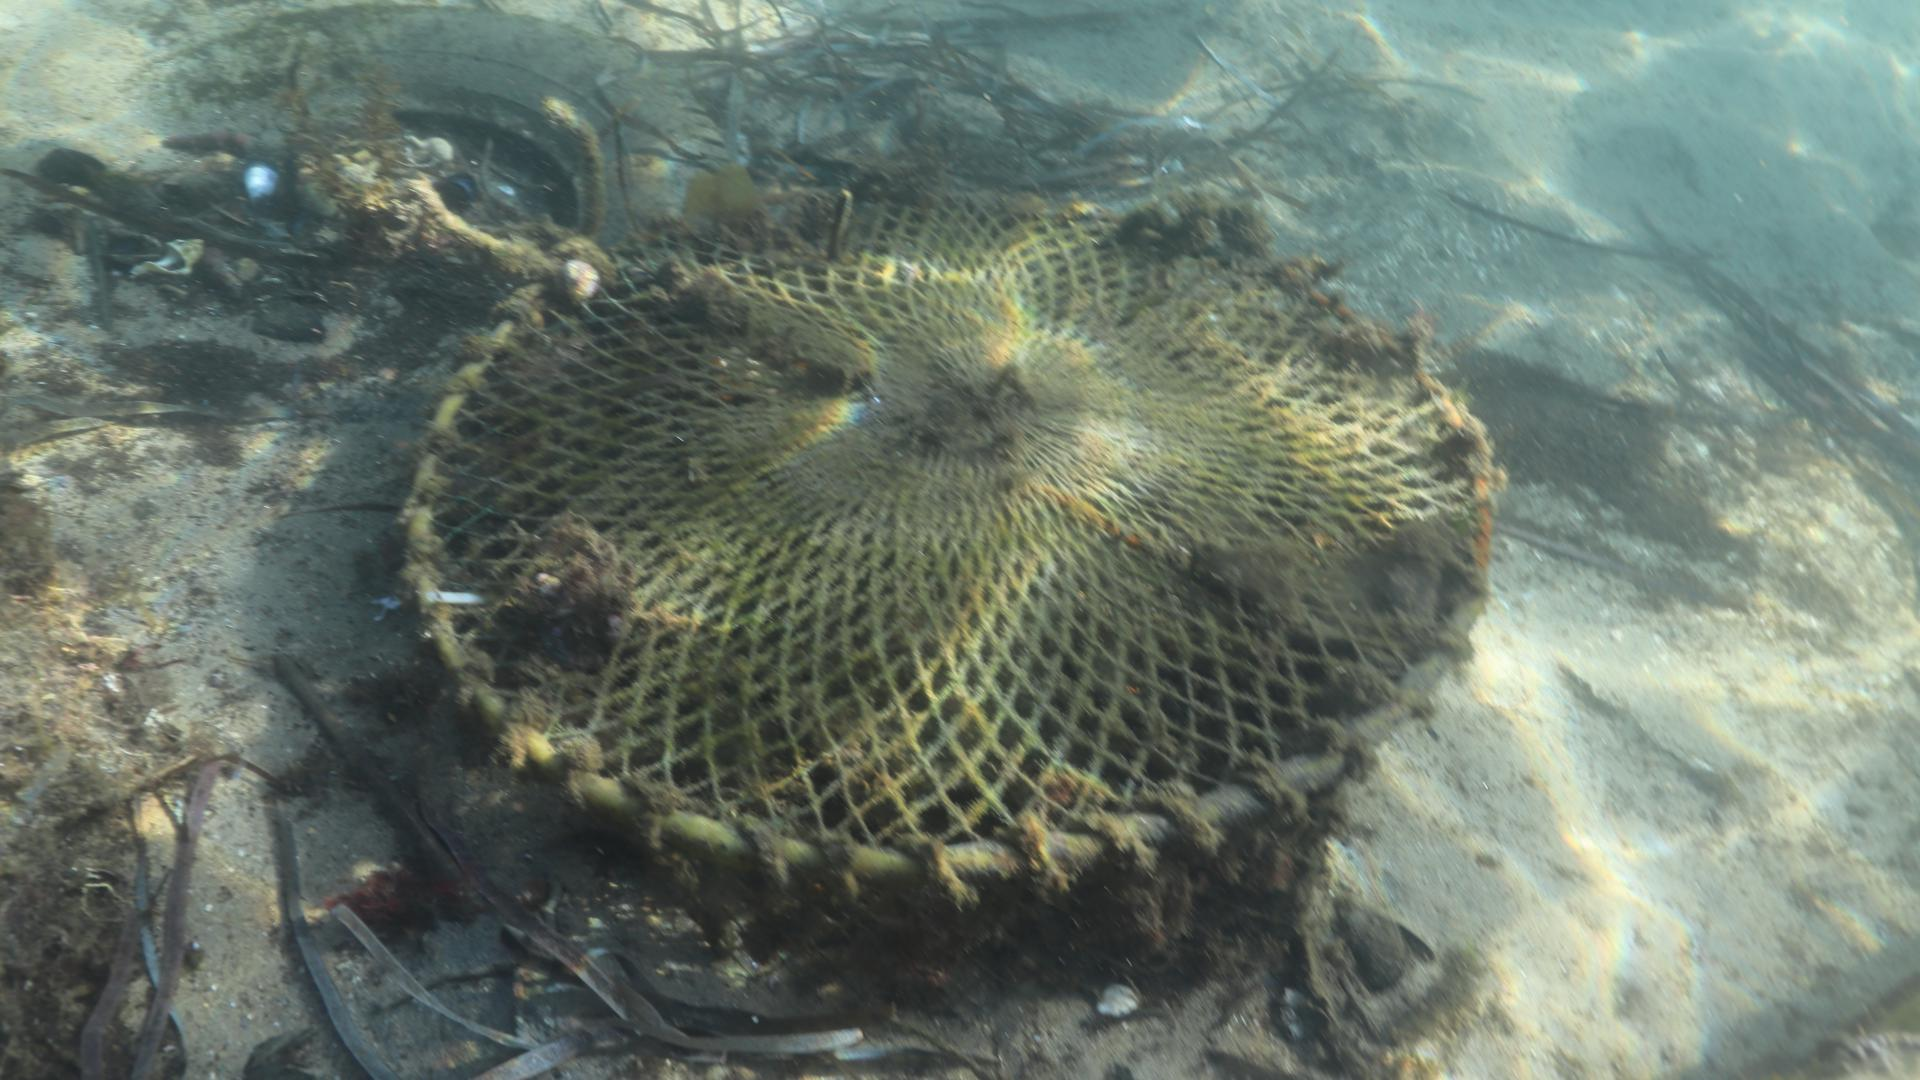circular fish trap: (405, 179, 1495, 1004)
